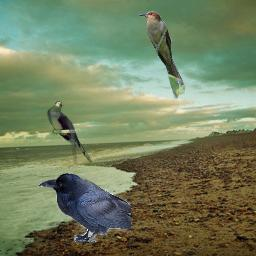Crow: (39, 173, 131, 242)
Cuckoo: (139, 11, 185, 99), (47, 101, 95, 164)
